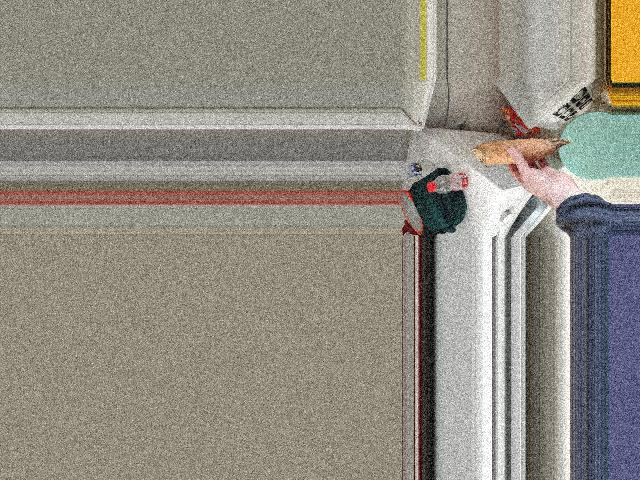sweet_potato: (471, 137, 567, 168)
